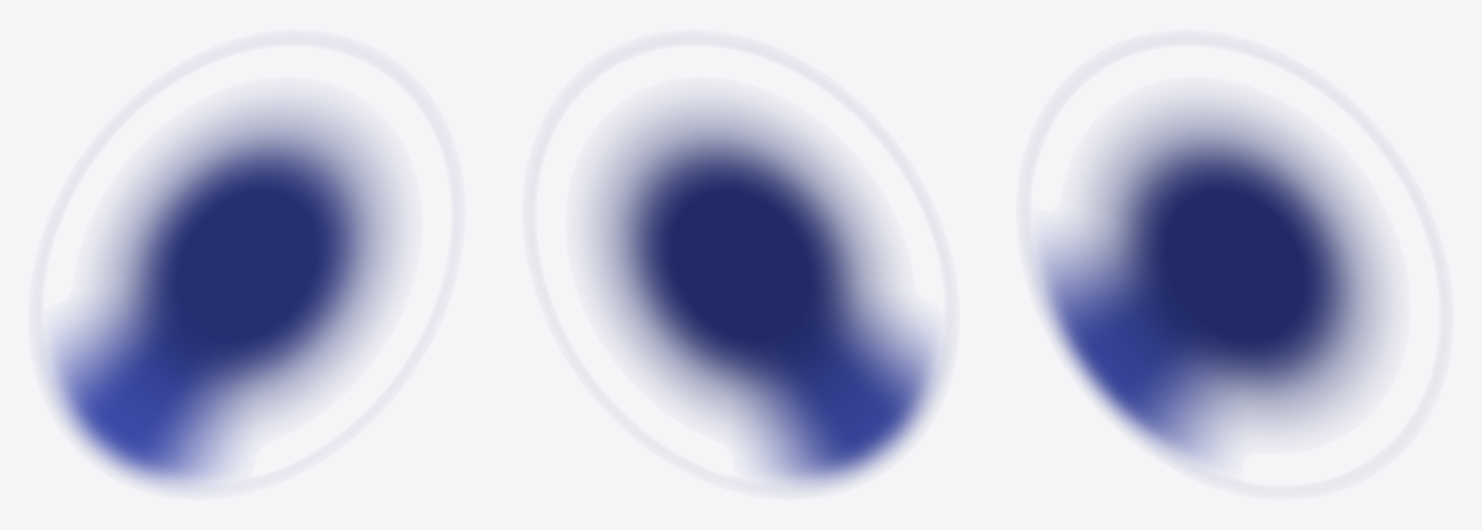
The model's file is iris_c.glb.
3 views of the same model, side by side, from view 1: azimuth 30°, elevation 25°; view 2: azimuth 150°, elevation 25°; view 3: azimuth 330°, elevation 25° (orthographic).
Parts seen in each view (by area): view 1: eye.003; view 2: eye.003; view 3: eye.003.
Part boxes in pixels (box(x1,y1,x2,y2)): eye.003: box(46, 103, 397, 488); eye.003: box(590, 103, 941, 488); eye.003: box(1034, 103, 1385, 463).
Bounding box in the file's own units: 0.2871 × 0.2871 × 1.62e-07.
Materials: 1 (1 with a texture image).
